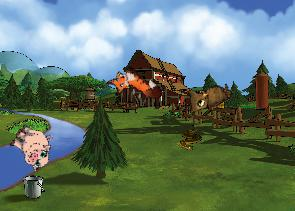fox: (103, 58, 165, 117)
owl: (180, 71, 234, 118)
pig: (4, 119, 59, 173)
